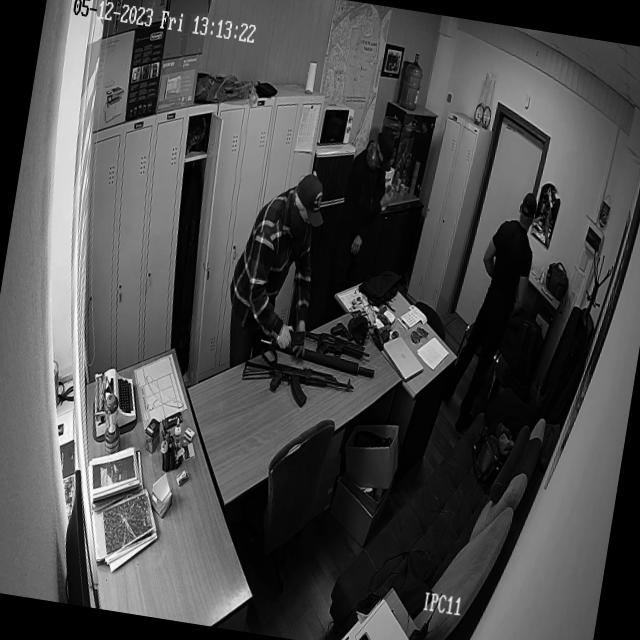gun: (238, 359, 357, 414), (303, 327, 373, 364), (328, 318, 356, 342)
person: (457, 178, 549, 416), (340, 132, 400, 282)
person with a gun: (220, 150, 342, 380)
